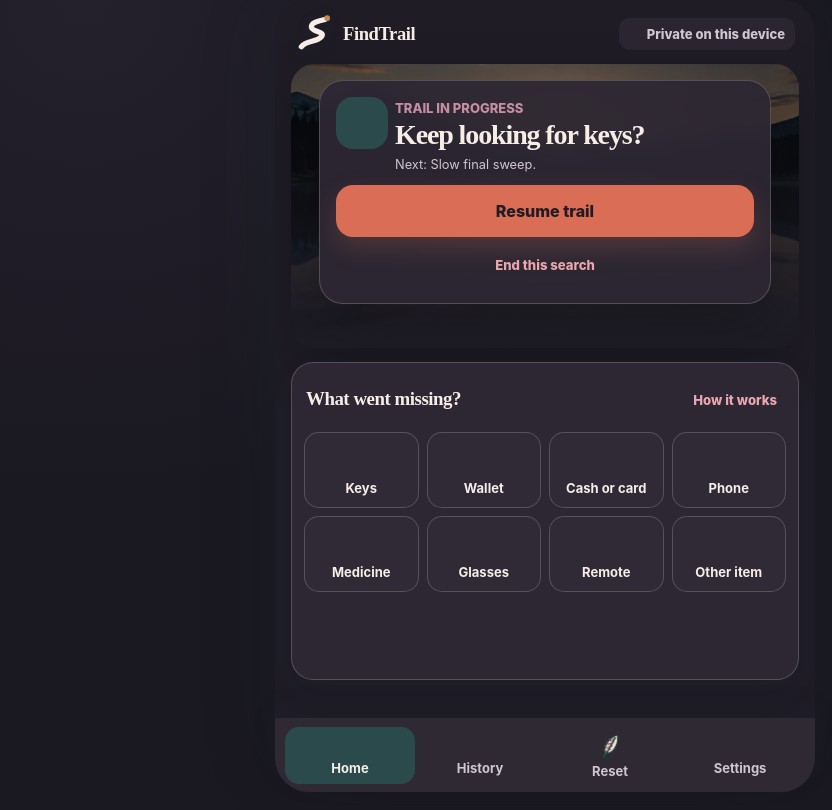
Test: FindTrail app › turns the final stop into a clear recovery plan
Click the button "Resume trail" at (545, 211), box [336,185,754,237]
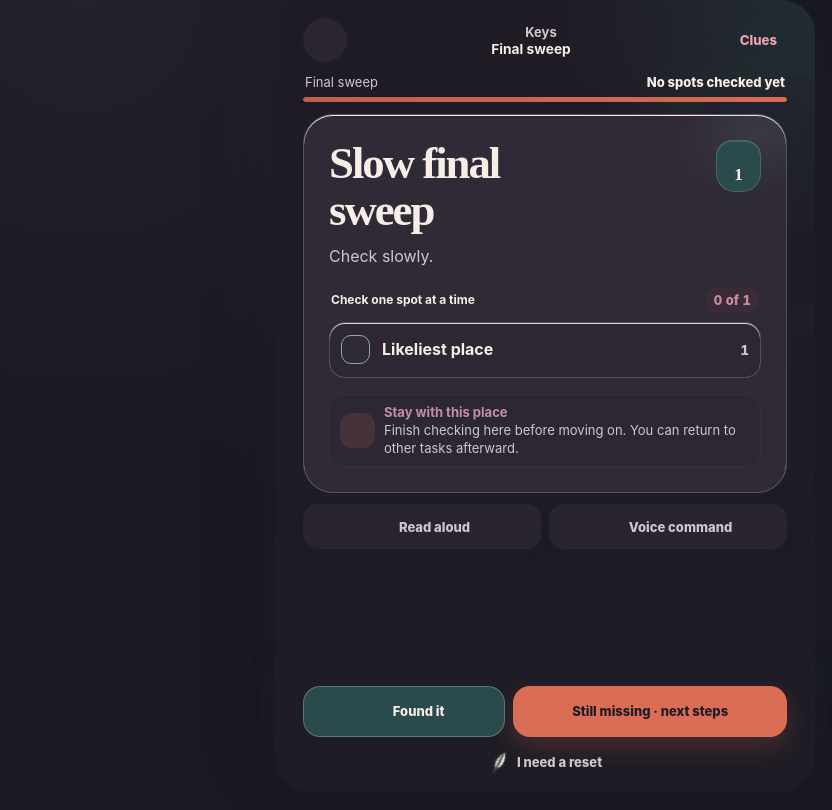
Click the button "Still missing · next steps" at (650, 712), box [513,686,787,737]
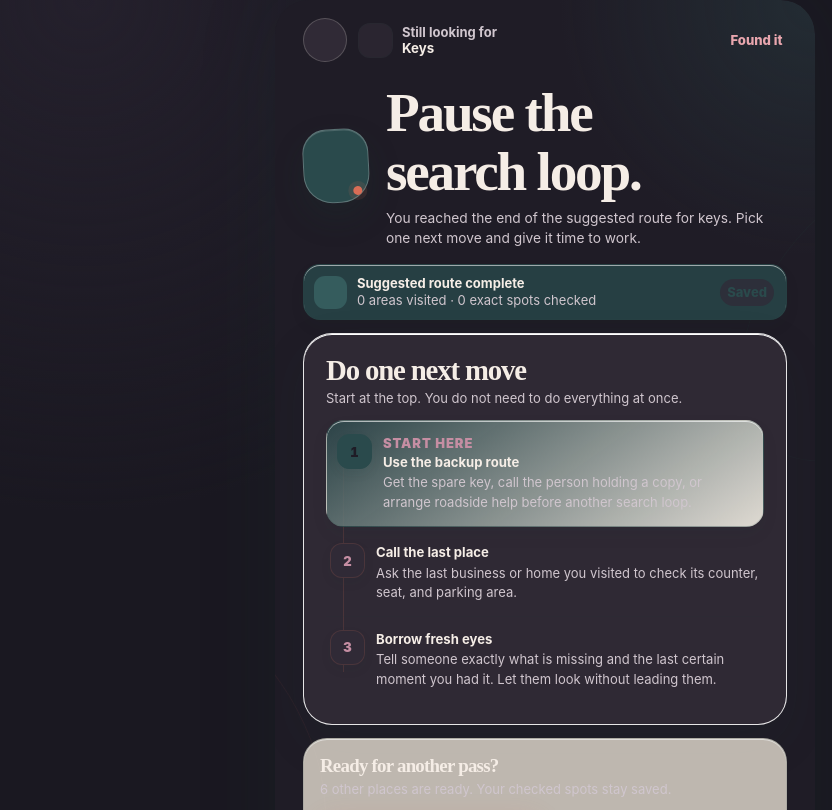
Check: the heading "Do one next move" is shown, box [326,354,526,386]
Check: the message labelled "Suggested route complete 0 areas visited · 0 exact spots checked Saved" is shown, box [303,264,787,320]
